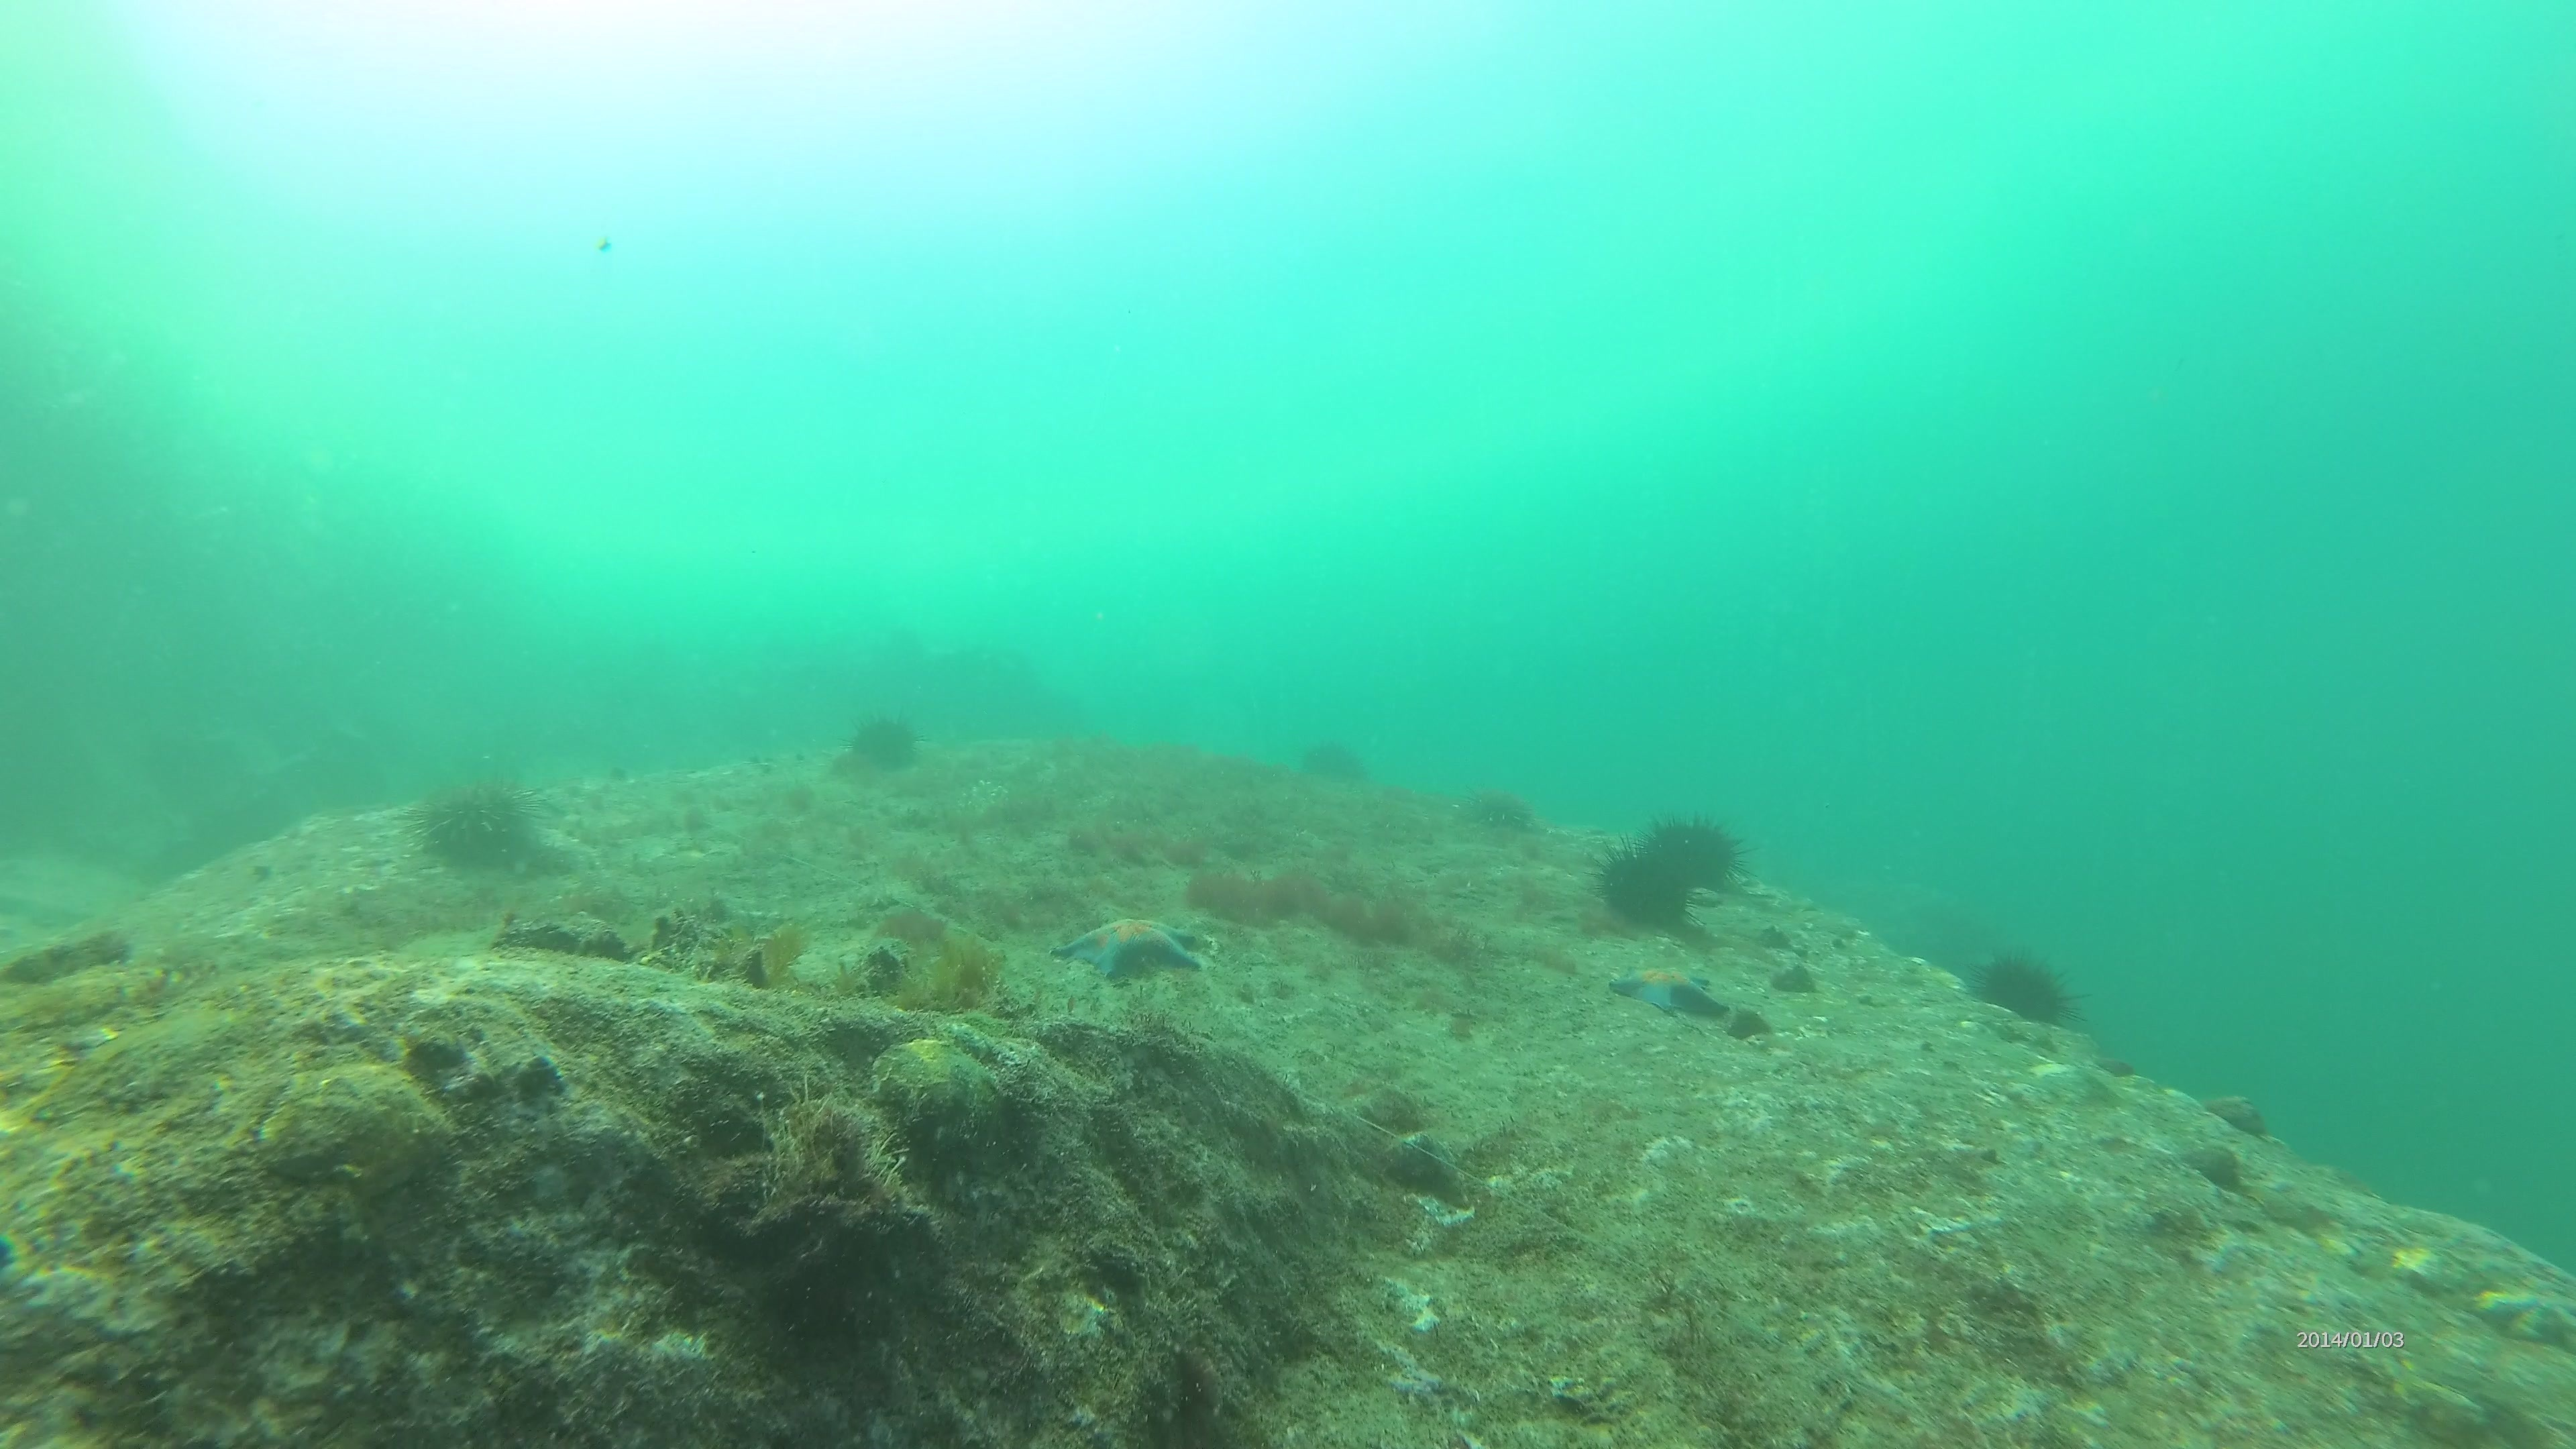echinus: (407, 770, 545, 879), (1967, 943, 2079, 1030), (1594, 844, 1691, 929), (1644, 807, 1748, 883), (839, 706, 927, 778), (1463, 780, 1537, 840), (1302, 741, 1366, 777)
starfish: (1049, 906, 1212, 985), (1603, 957, 1732, 1024), (2201, 1085, 2273, 1143)
